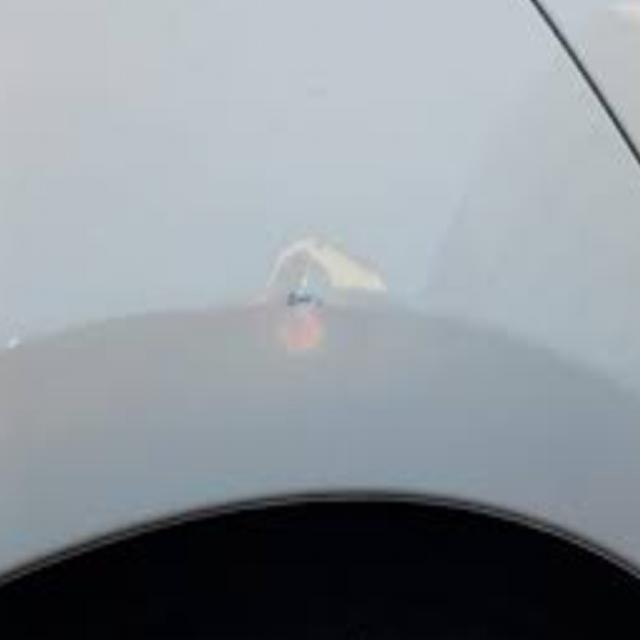dents: (250, 235, 374, 389)
